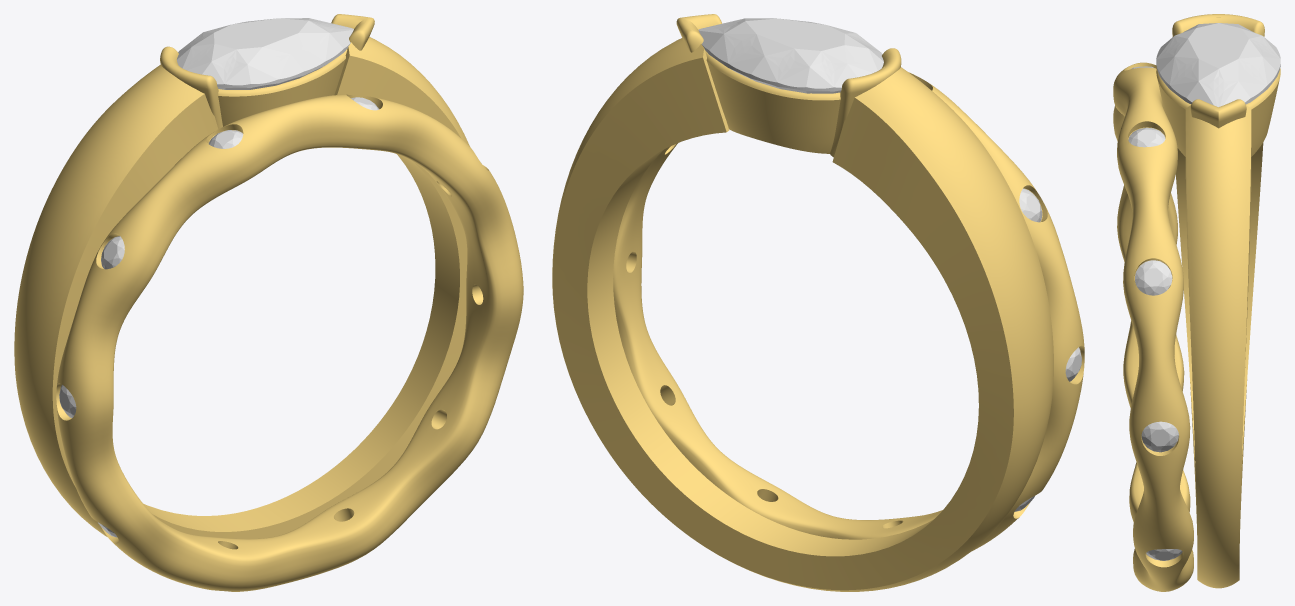
File: PhoebeYGboth.glb
3 renders of one model, left to right at view 1: azimuth 30°, elevation 25°; view 2: azimuth 150°, elevation 25°; view 3: azimuth 270°, elevation 25°, orthographic. The views are drawn at different scales.
Visible parts, largest first — view 1: Phoebe YG for 3d model.001, Phoebe YG for 3d model, Phoebe dia for 3d model.010, Phoebe YG for 3d model.004, Phoebe YG for 3d model.003, Phoebe YG for 3d model.002; view 2: Phoebe YG for 3d model, Phoebe YG for 3d model.001, Phoebe dia for 3d model.010, Phoebe YG for 3d model.004, Phoebe YG for 3d model.003, Phoebe YG for 3d model.002; view 3: Phoebe YG for 3d model, Phoebe YG for 3d model.001, Phoebe dia for 3d model.010, Phoebe YG for 3d model.004, Phoebe YG for 3d model.002, Phoebe dia for 3d model.008, Phoebe YG for 3d model.003, Phoebe dia for 3d model.007, Phoebe dia for 3d model.009, Phoebe dia for 3d model.006.
Part boxes in pixels (bbox=[...]): Phoebe YG for 3d model.001: bbox=[56, 94, 523, 591]; Phoebe YG for 3d model: bbox=[14, 37, 469, 538]; Phoebe dia for 3d model.010: bbox=[177, 18, 353, 89]; Phoebe YG for 3d model.004: bbox=[218, 49, 347, 126]; Phoebe YG for 3d model.003: bbox=[160, 46, 222, 129]; Phoebe YG for 3d model.002: bbox=[331, 14, 374, 50]; Phoebe YG for 3d model: bbox=[552, 38, 1053, 591]; Phoebe YG for 3d model.001: bbox=[613, 72, 1084, 551]; Phoebe dia for 3d model.010: bbox=[698, 18, 883, 93]; Phoebe YG for 3d model.004: bbox=[705, 51, 840, 153]; Phoebe YG for 3d model.003: bbox=[830, 48, 901, 157]; Phoebe YG for 3d model.002: bbox=[676, 14, 721, 52]; Phoebe YG for 3d model: bbox=[1176, 17, 1263, 588]; Phoebe YG for 3d model.001: bbox=[1113, 62, 1193, 591]; Phoebe dia for 3d model.010: bbox=[1156, 23, 1280, 107]; Phoebe YG for 3d model.004: bbox=[1156, 68, 1280, 156]; Phoebe YG for 3d model.002: bbox=[1190, 99, 1246, 128]; Phoebe dia for 3d model.008: bbox=[1135, 260, 1172, 295]; Phoebe YG for 3d model.003: bbox=[1172, 14, 1264, 36]; Phoebe dia for 3d model.007: bbox=[1141, 421, 1178, 452]; Phoebe dia for 3d model.009: bbox=[1128, 127, 1165, 147]; Phoebe dia for 3d model.006: bbox=[1146, 549, 1182, 560].
Size of the model in its own units: 22.58 by 24.61 by 7.14.
